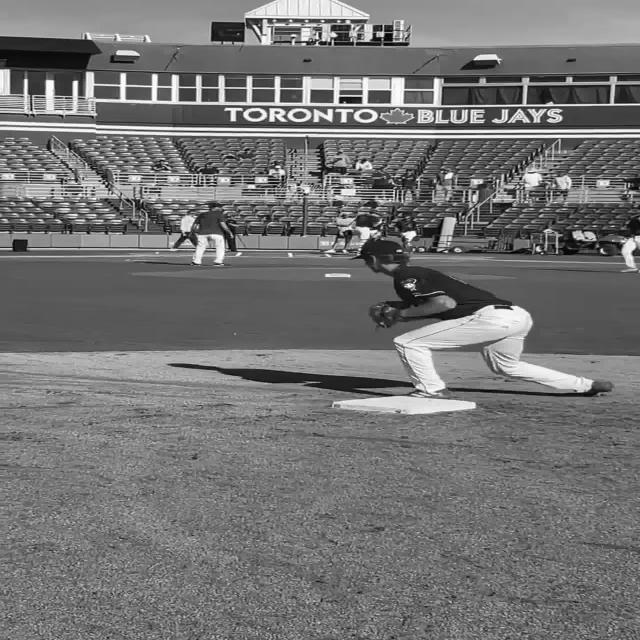base: (328, 396, 481, 414)
baseball_glove: (368, 302, 402, 328)
shoe: (402, 388, 451, 399), (586, 380, 613, 394), (349, 253, 363, 259), (619, 268, 639, 272), (190, 261, 202, 266), (213, 263, 231, 266)
